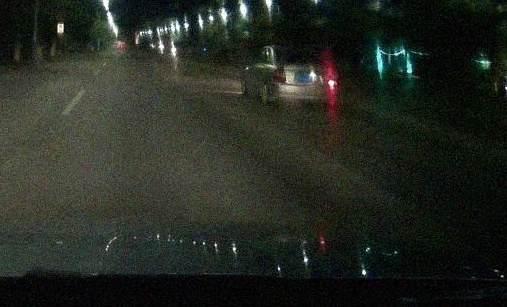L_light: (274, 68, 286, 84)
R_light: (324, 69, 337, 84)
T_light: (294, 50, 302, 53)
night-right: (270, 45, 338, 111)
